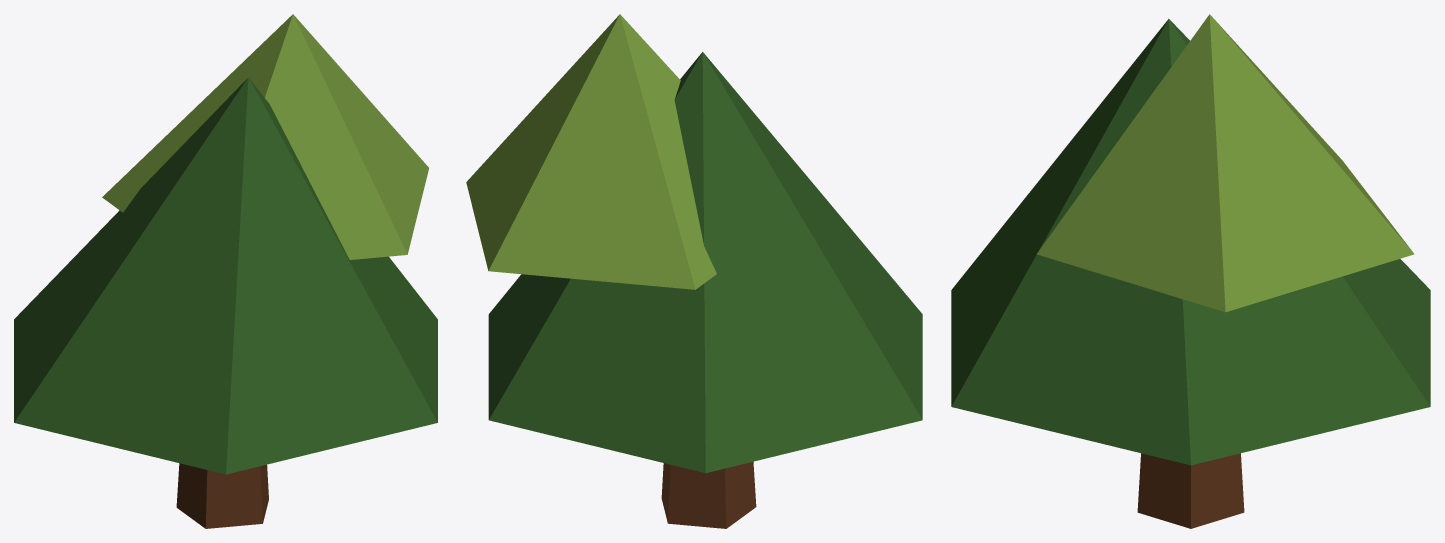
File: Tree.fbx
The picture shows the model from 3 angles, left to right: view 1: azimuth 30°, elevation 25°; view 2: azimuth 150°, elevation 25°; view 3: azimuth 270°, elevation 25°; orthographic projection. The views are drawn at different scales.
Parts seen in each view (by area): view 1: Tree; view 2: Tree; view 3: Tree.
Boxes of the visible parts, <box> form: Tree: <box>14,14,437,528</box>; Tree: <box>466,14,922,528</box>; Tree: <box>951,14,1430,528</box>.
Size of the model in its own units: 65 by 68 by 55.43.
